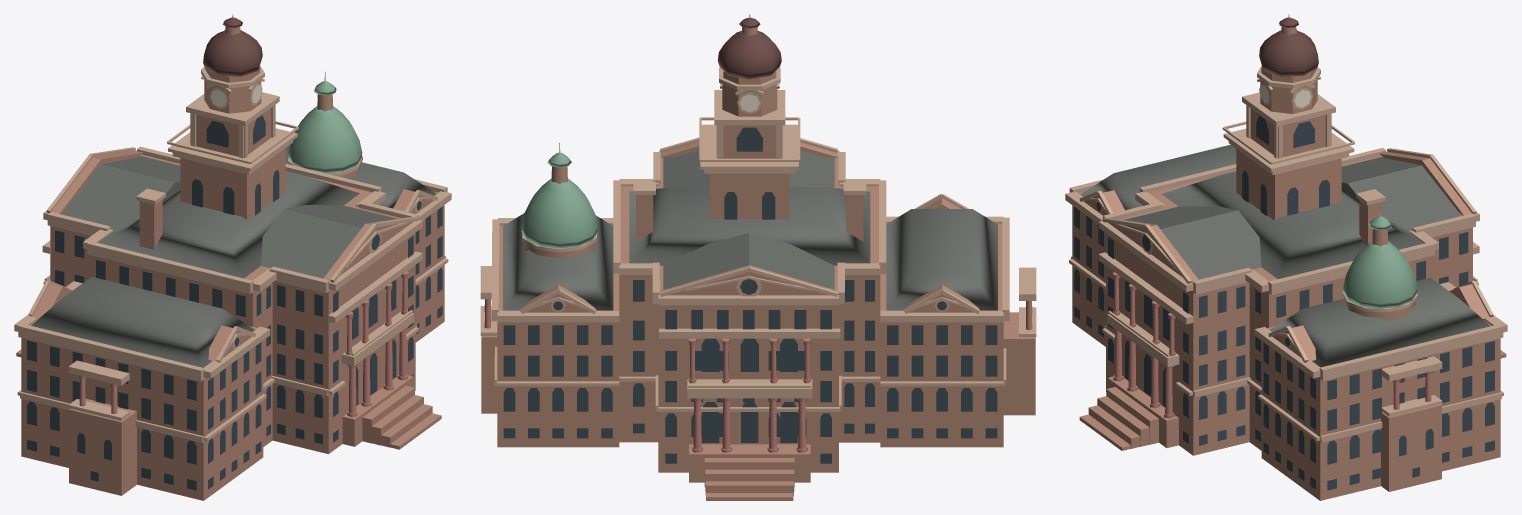
File: tarrant-county-courthouse-far.glb
3 views of the same model, side by side, from view 1: azimuth 30°, elevation 25°; view 2: azimuth 150°, elevation 25°; view 3: azimuth 270°, elevation 25° (orthographic). The views are drawn at different scales.
Parts seen in each view (by area): view 1: tarrant-county-courthouse-0-stone, tarrant-county-courthouse-0-roof, tarrant-county-courthouse-0-trim, tarrant-county-courthouse-0-glass, tarrant-county-courthouse-0-copper, tarrant-county-courthouse-0-column, tarrant-county-courthouse-0-dome; view 2: tarrant-county-courthouse-0-stone, tarrant-county-courthouse-0-roof, tarrant-county-courthouse-0-trim, tarrant-county-courthouse-0-glass, tarrant-county-courthouse-0-copper, tarrant-county-courthouse-0-column, tarrant-county-courthouse-0-dome; view 3: tarrant-county-courthouse-0-stone, tarrant-county-courthouse-0-roof, tarrant-county-courthouse-0-trim, tarrant-county-courthouse-0-glass, tarrant-county-courthouse-0-copper, tarrant-county-courthouse-0-column, tarrant-county-courthouse-0-dome.
Part boxes in pixels (x1,y1,x2,y2): tarrant-county-courthouse-0-stone: (16,26,444,500); tarrant-county-courthouse-0-roof: (31,145,436,367); tarrant-county-courthouse-0-trim: (14,14,451,442); tarrant-county-courthouse-0-glass: (27,115,442,490); tarrant-county-courthouse-0-copper: (288,81,362,173); tarrant-county-courthouse-0-column: (77,271,408,419); tarrant-county-courthouse-0-dome: (203,17,262,76); tarrant-county-courthouse-0-stone: (481,27,1035,500); tarrant-county-courthouse-0-roof: (503,150,997,310); tarrant-county-courthouse-0-trim: (480,14,1036,411); tarrant-county-courthouse-0-glass: (503,127,997,463); tarrant-county-courthouse-0-copper: (521,152,597,248); tarrant-county-courthouse-0-column: (484,299,1032,452); tarrant-county-courthouse-0-dome: (717,17,781,79); tarrant-county-courthouse-0-stone: (1072,26,1506,500); tarrant-county-courthouse-0-roof: (1080,144,1490,367); tarrant-county-courthouse-0-trim: (1065,14,1507,442); tarrant-county-courthouse-0-glass: (1074,115,1494,490); tarrant-county-courthouse-0-copper: (1343,216,1417,308); tarrant-county-courthouse-0-column: (1112,272,1432,418); tarrant-county-courthouse-0-dome: (1259,17,1318,76).
Bounding box in the file's own units: 76.55 × 59 × 62.96.
